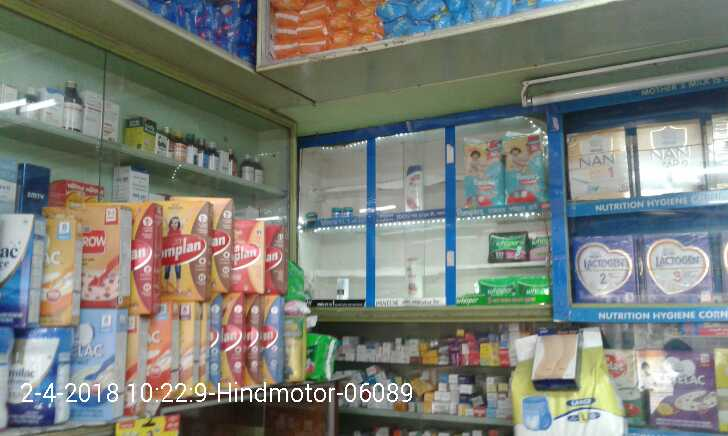vicks: (329, 206, 356, 220)
